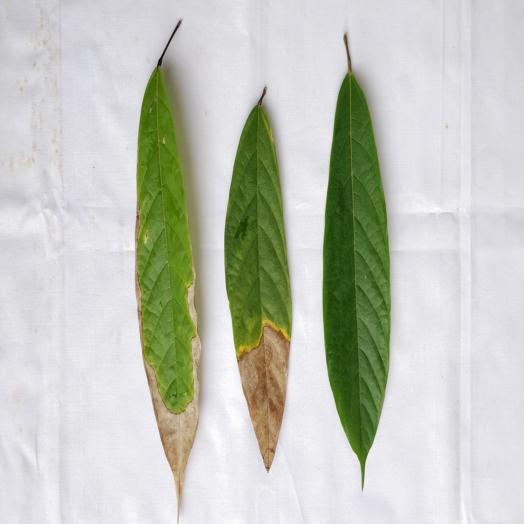Healthy Leaf: (323, 35, 389, 486)
Potassium: (136, 21, 200, 518), (225, 88, 291, 470)
